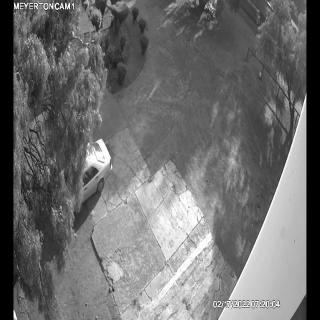car: (54, 138, 112, 207)
